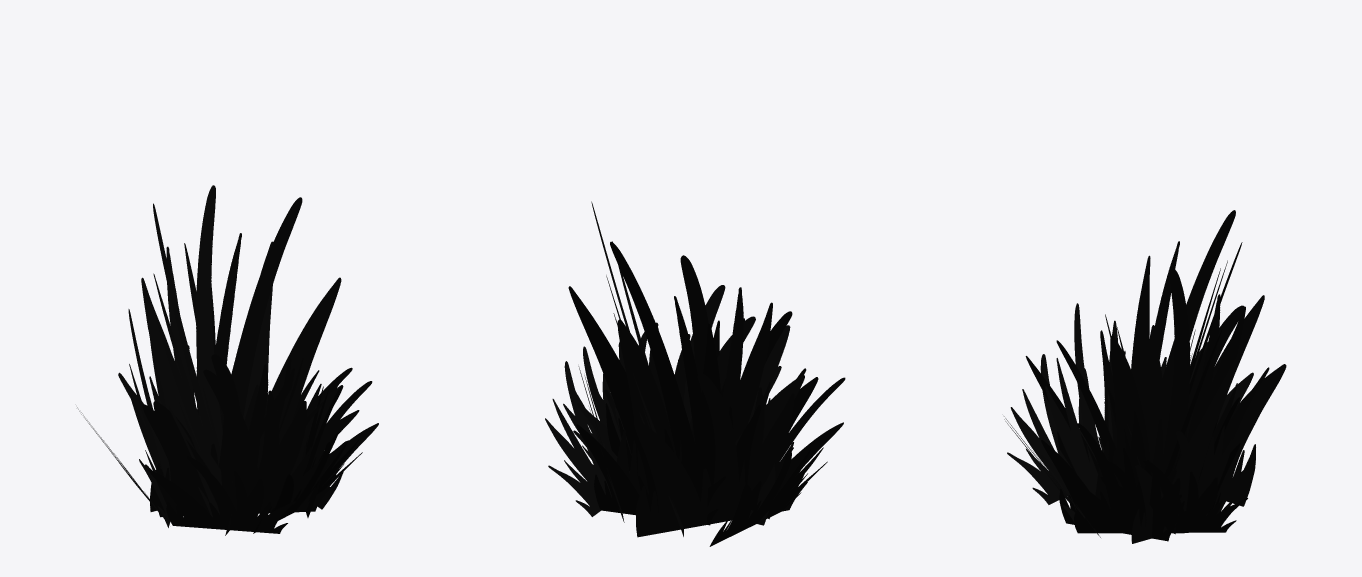
File: grass3.fbx
3 views of the same model, side by side, from view 1: azimuth 30°, elevation 25°; view 2: azimuth 150°, elevation 25°; view 3: azimuth 270°, elevation 25° (orthographic). The views are drawn at different scales.
Parts seen in each view (by area): view 1: Grass_3; view 2: Grass_3; view 3: Grass_3.
Boxes of the visible parts, <box> form: Grass_3: <box>77,185,378,535</box>; Grass_3: <box>545,201,845,546</box>; Grass_3: <box>1004,210,1286,543</box>.
Size of the model in its own units: 38.21 by 44.57 by 40.04.
